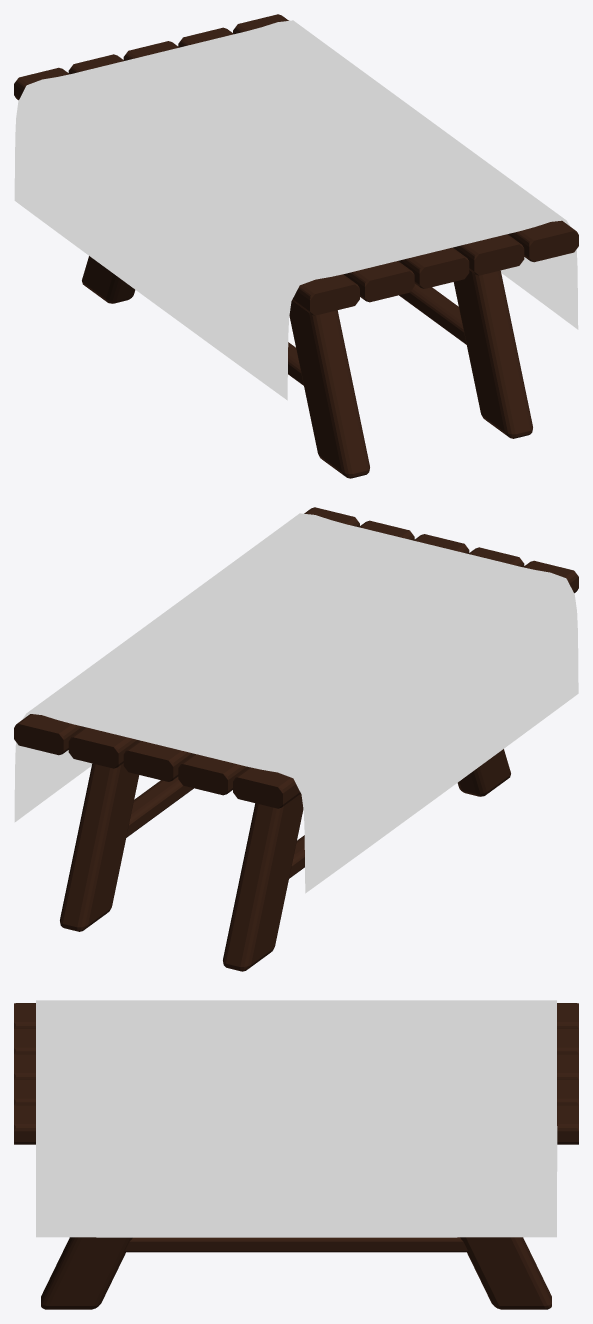
File: Table.fbx
3 views of the same model, one above another, from view 1: azimuth 30°, elevation 25°; view 2: azimuth 150°, elevation 25°; view 3: azimuth 270°, elevation 25° (orthographic). The views are drawn at different scales.
Parts seen in each view (by area): view 1: Cloth, Cube.001, Cube.005, Cube.003; view 2: Cloth, Cube.001, Cube.005, Cube.003; view 3: Cloth, Cube.001, Cube.005, Cube.003.
Boxes of the visible parts, box(x1,y1,x2,y2) form: Cloth: box(14, 20, 578, 400); Cube.001: box(82, 256, 532, 478); Cube.005: box(14, 14, 578, 315); Cube.003: box(288, 284, 466, 385); Cloth: box(14, 513, 578, 893); Cube.001: box(60, 749, 510, 971); Cube.005: box(14, 507, 578, 808); Cube.003: box(126, 777, 304, 878); Cloth: box(36, 1000, 557, 1237); Cube.001: box(41, 1237, 551, 1309); Cube.005: box(14, 1003, 578, 1144); Cube.003: box(125, 1237, 467, 1252).
Bounding box in the file's own units: 257 × 179 × 452.
